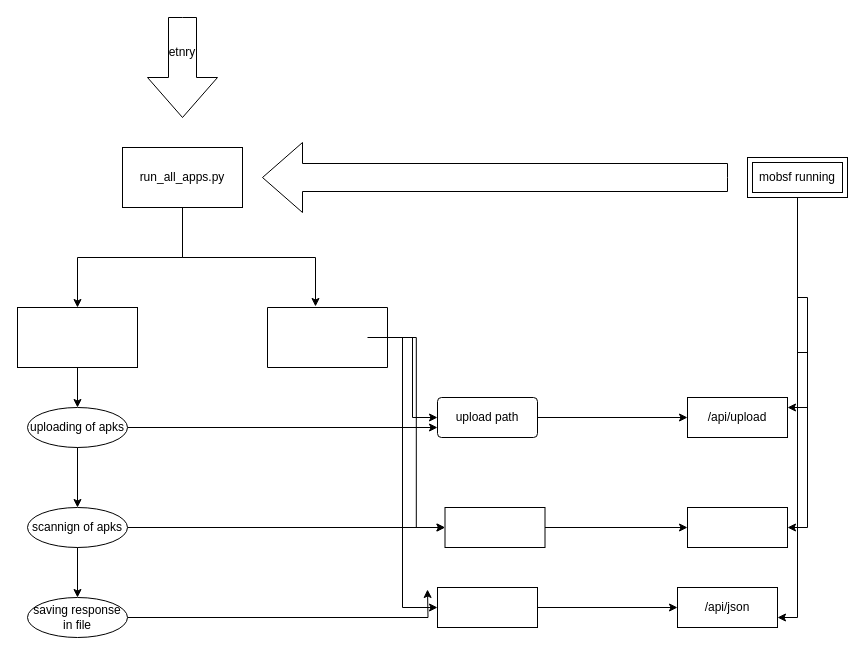
Some shapes in this 865 by 655 pixel diagram are drawn without their labels. The centre of each missing label's shape, as x and y in pixels:
"/api/scan" belongs at (x=737, y=527).
"flask app.py" belongs at (x=327, y=337).
"json response path" belongs at (x=487, y=607).
"scan path" belongs at (x=494, y=527).
"streamlit app.py" belongs at (x=77, y=337).
